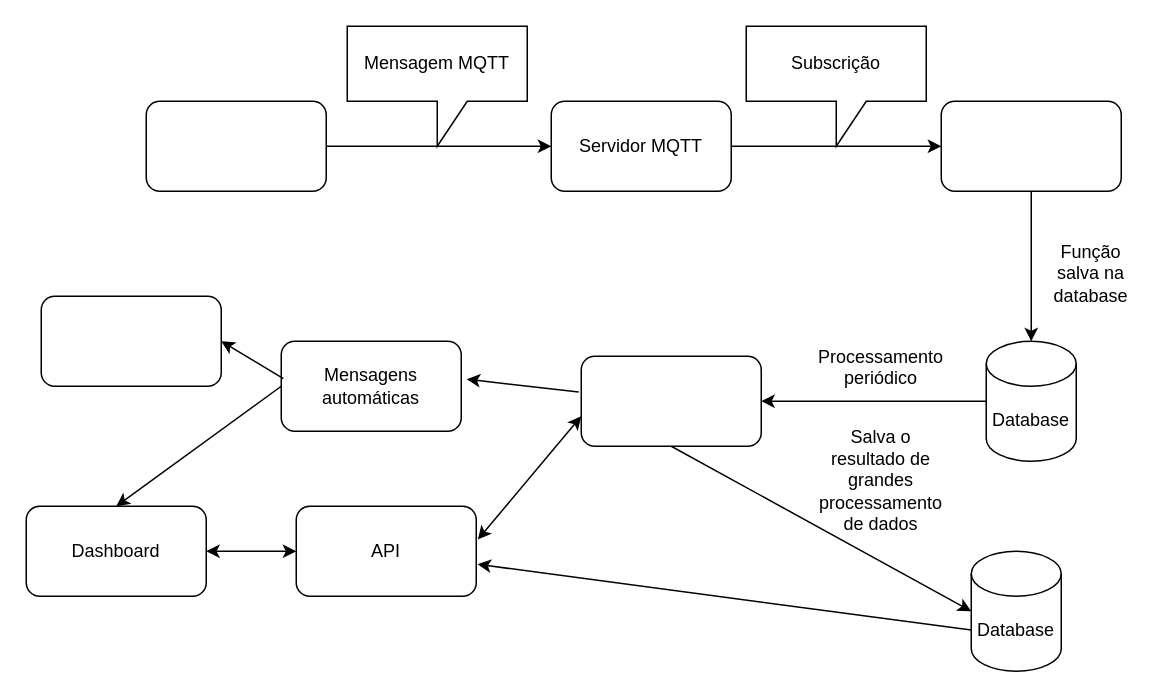
This 1163x698 diagram has some shape labels left out. The shapes that lost their labels are listed below. From the top down, each one's centre as x and y in pixels, then its label:
At pixel 235 145: "ESP32".
At pixel 1030 145: "Processamento das mensagens (Cloud functions ou Lambda)".
At pixel 130 340: "Email/SMS".
At pixel 670 400: "Modelos de IA".
